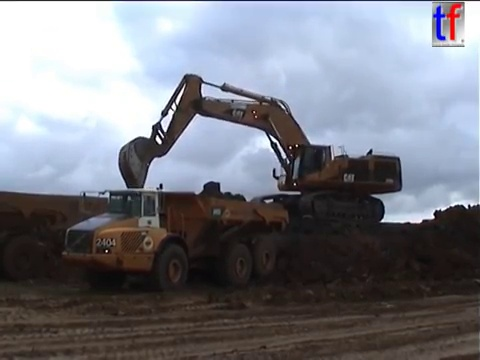excavator: (115, 71, 406, 225)
truck: (58, 181, 292, 294), (1, 188, 143, 284)
